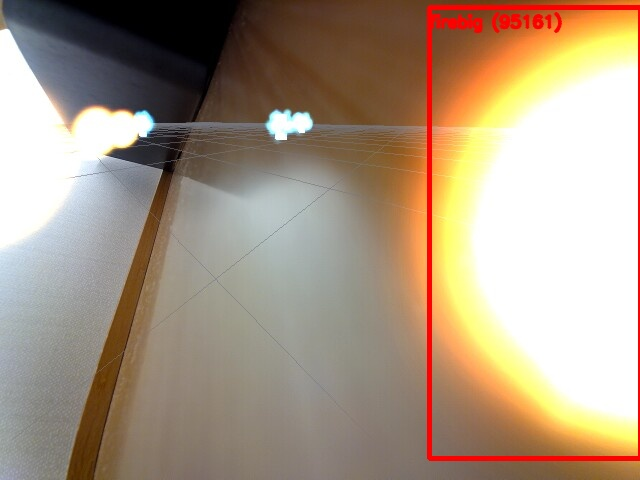firebig: (429, 7, 640, 458)
